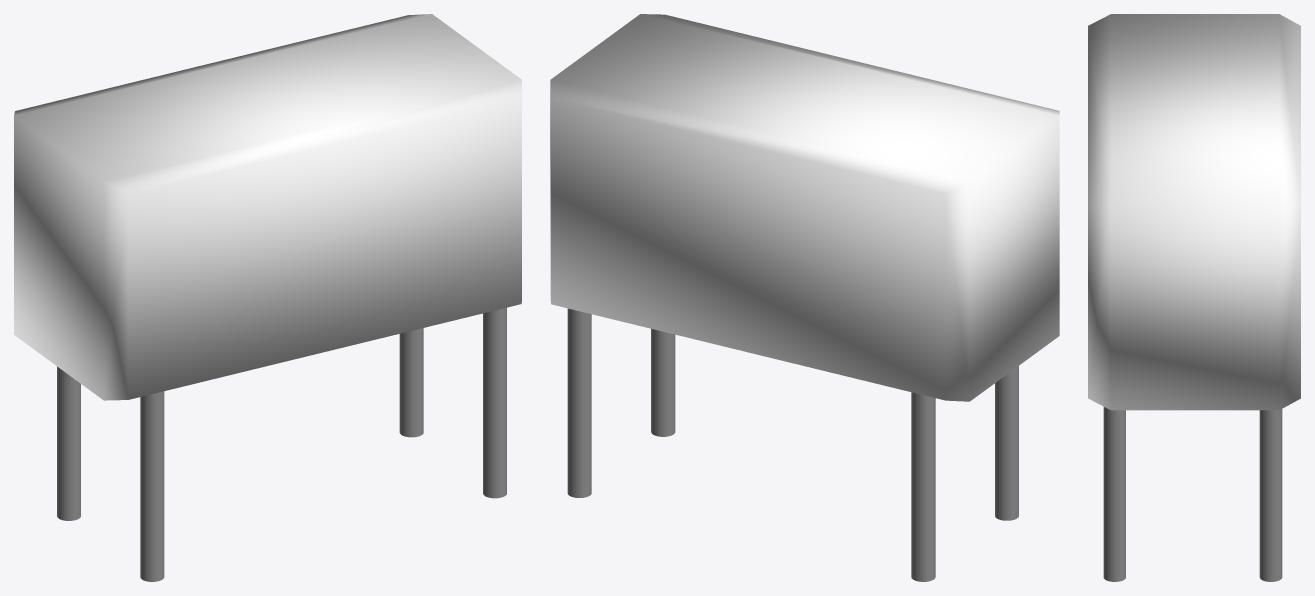
Rendered from oxygenator.obj.
The picture shows the model from 3 angles, left to right: view 1: azimuth 30°, elevation 25°; view 2: azimuth 150°, elevation 25°; view 3: azimuth 270°, elevation 25°; orthographic projection. The views are drawn at different scales.
Visible parts, largest first — view 1: Cylinder; view 2: Cylinder; view 3: Cylinder.
Part boxes in pixels (left/top/right/bottom): Cylinder: left=14, top=14, right=521, bottom=581; Cylinder: left=550, top=14, right=1059, bottom=581; Cylinder: left=1088, top=14, right=1300, bottom=581.
Size of the model in its own units: 4 by 3.74 by 1.88.
